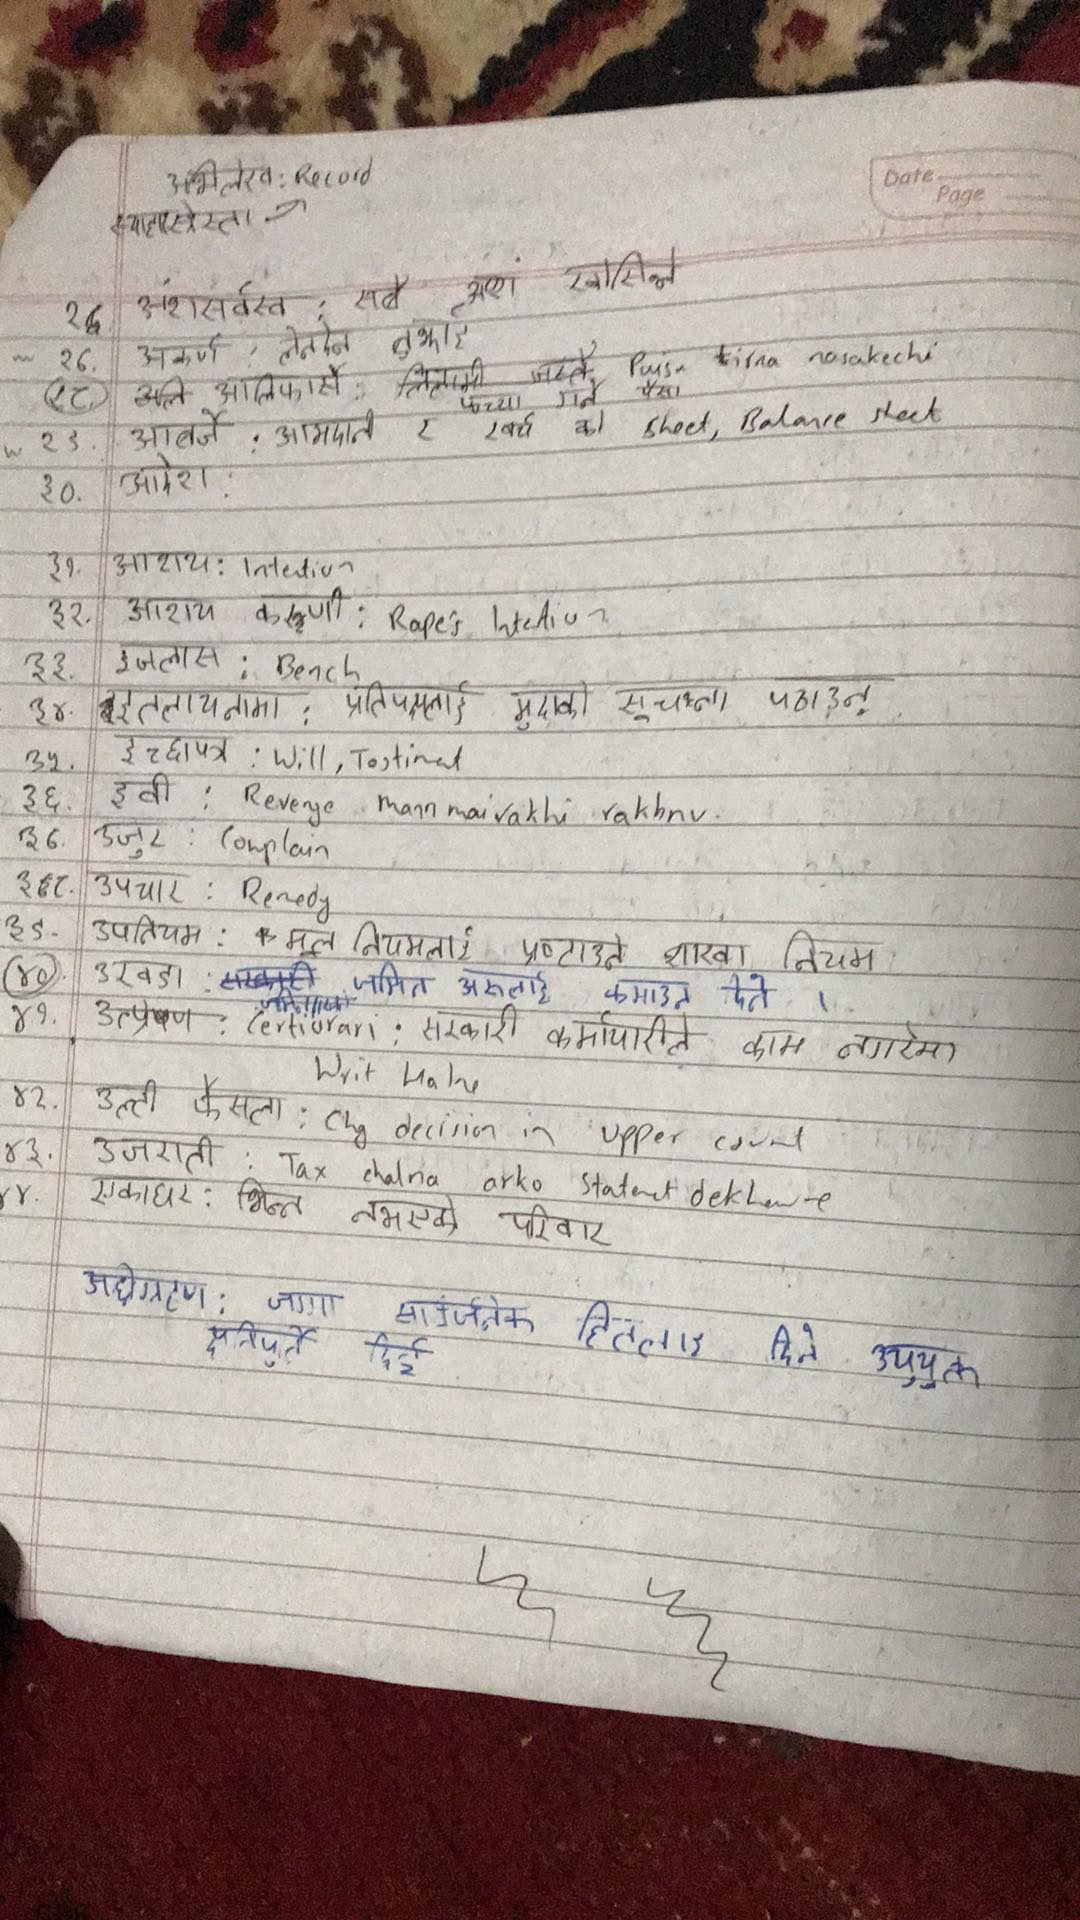text: (571, 1299, 709, 1360), (113, 684, 284, 729), (386, 1292, 541, 1340), (133, 281, 295, 324), (836, 1021, 968, 1073), (80, 1261, 208, 1315), (545, 1017, 696, 1062), (862, 1338, 984, 1393), (342, 676, 471, 727), (200, 1316, 313, 1371), (212, 364, 347, 409), (502, 1200, 611, 1255), (764, 667, 880, 719), (351, 916, 476, 963), (109, 200, 249, 241), (347, 1191, 462, 1240), (563, 249, 680, 297), (191, 1071, 289, 1127), (612, 680, 731, 727), (88, 909, 207, 953), (87, 1131, 222, 1171), (781, 924, 884, 976), (413, 1000, 520, 1048), (516, 924, 628, 971), (164, 157, 280, 200), (87, 1168, 193, 1215), (505, 680, 592, 736), (109, 636, 225, 676), (88, 866, 191, 911), (117, 455, 215, 501), (451, 961, 553, 1005), (272, 409, 381, 448), (117, 732, 233, 767), (604, 972, 698, 1015), (88, 1001, 204, 1035), (364, 1329, 435, 1385), (231, 1175, 315, 1221), (112, 541, 212, 579), (136, 332, 232, 372), (272, 320, 356, 365), (127, 417, 225, 455), (123, 591, 222, 629), (385, 319, 479, 359), (91, 953, 185, 993), (351, 963, 435, 1004), (663, 936, 753, 973), (94, 819, 169, 862), (767, 1317, 823, 1371), (107, 771, 179, 812), (94, 1077, 164, 1120), (265, 1284, 343, 1321), (738, 1027, 808, 1063), (349, 272, 407, 313), (460, 272, 525, 307), (284, 924, 343, 963), (12, 864, 73, 899), (61, 295, 107, 340), (720, 976, 775, 1013), (480, 411, 541, 444), (1, 1133, 47, 1175), (37, 469, 80, 512), (8, 1077, 51, 1120), (36, 427, 88, 462), (11, 822, 63, 856), (40, 545, 79, 589), (47, 376, 91, 415), (24, 647, 71, 683), (8, 1000, 55, 1035), (47, 595, 88, 636), (26, 694, 69, 733), (1, 915, 47, 948), (22, 744, 65, 779), (21, 783, 65, 816), (12, 960, 53, 992), (413, 411, 443, 448), (574, 415, 600, 444)
